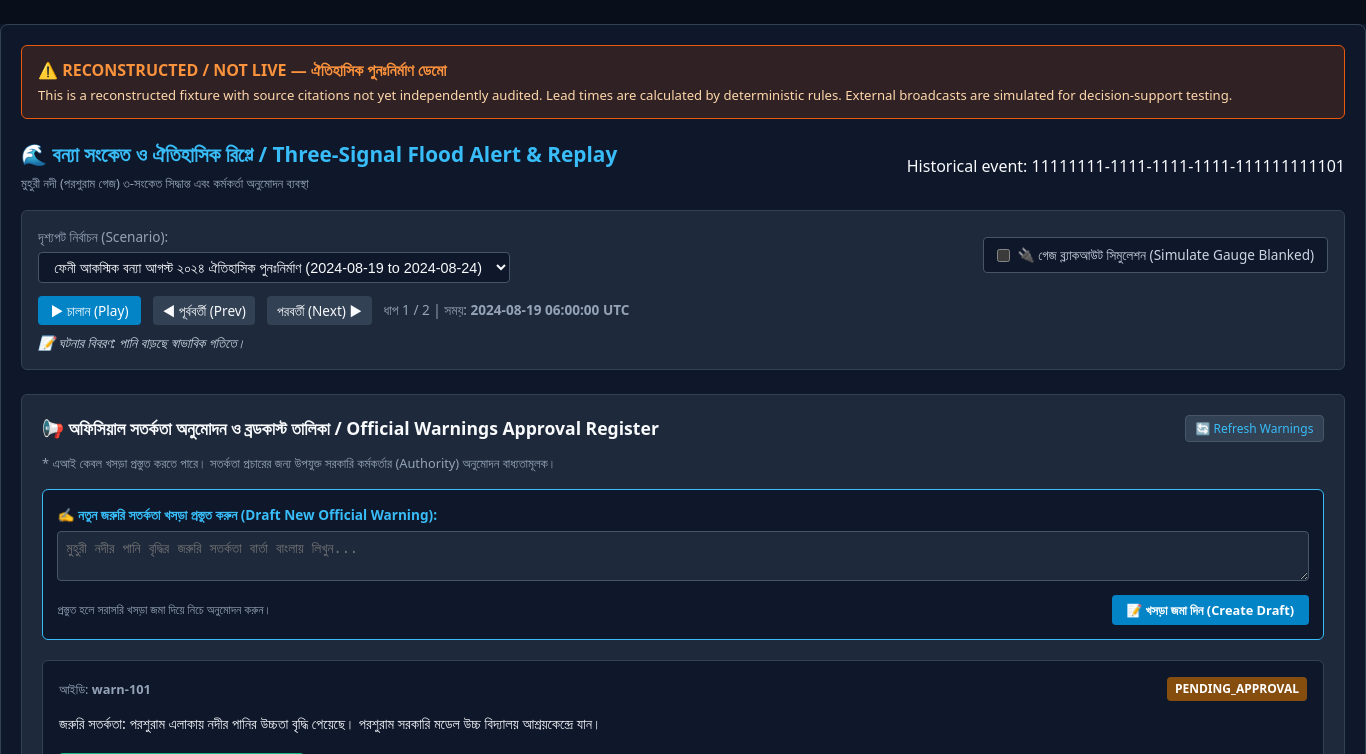
Test: FloodReplayWarning Component › demonstrates gauge blanking sensor blackout escalation
Click the checkbox labelled "🔌 গেজ ব্ল্যাকআউট সিমুলেশন (Simulate Gauge Blanked)" at [1003, 255], box x1=997 y1=248 x2=1010 y2=262
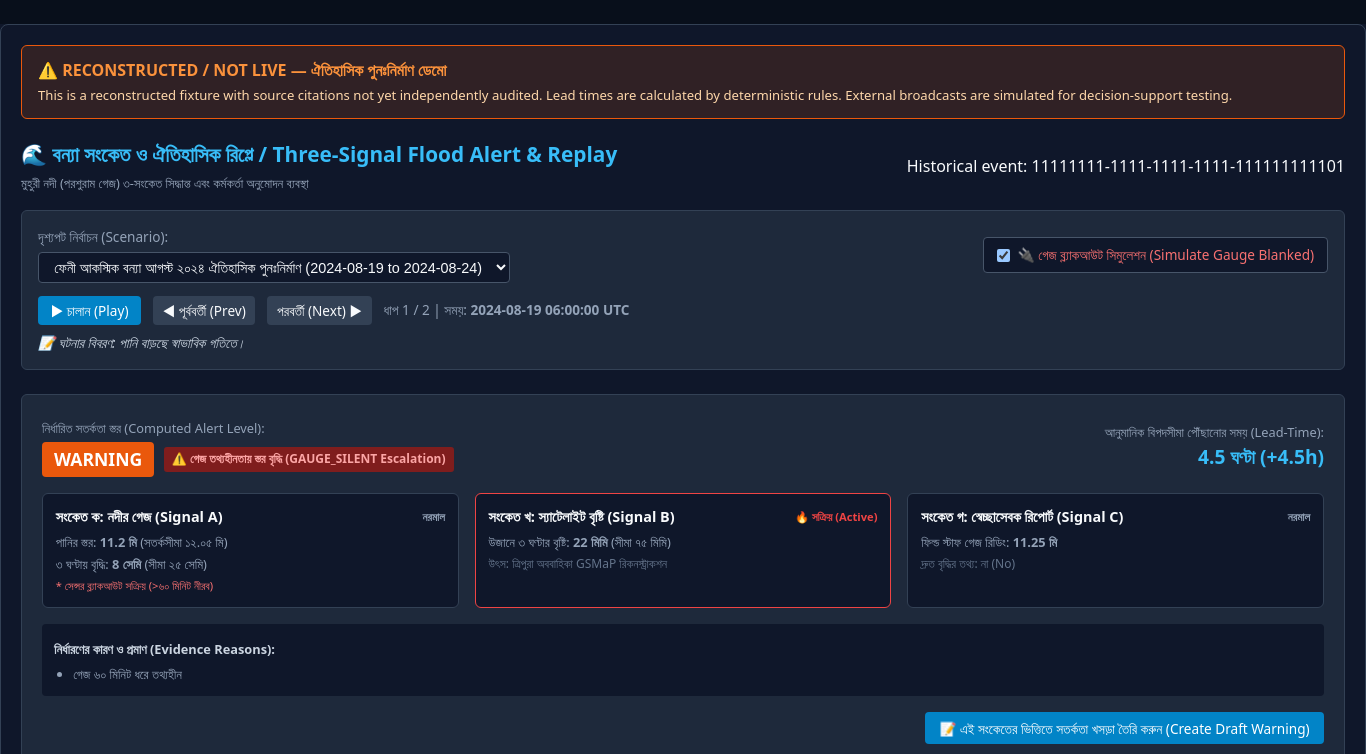
Check: the text "⚠️ গেজ তথ্যহীনতায় স্তর বৃদ্ধি (GAUGE_SILENT Escalation)" is shown, box x1=164 y1=447 x2=454 y2=472
